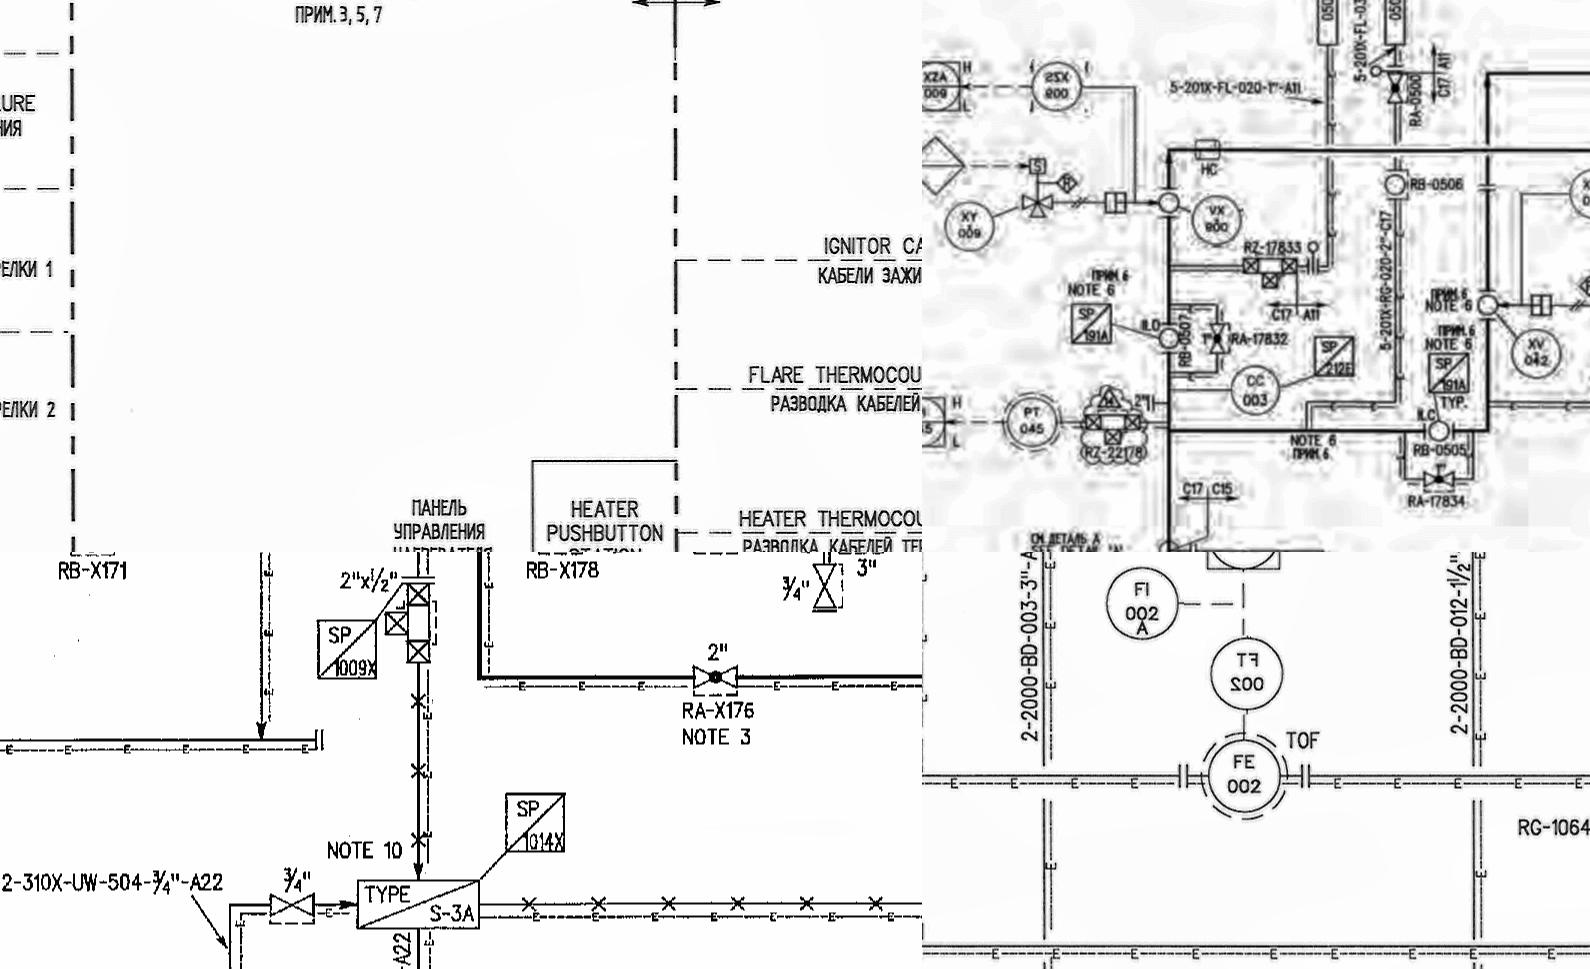2 WAY VALVE: (385, 584, 444, 674), (1078, 407, 1148, 450), (1237, 251, 1303, 292)
3 WAY GENERAL VALVE: (1019, 192, 1058, 222)
BLIND SPADE OPEN: (1302, 239, 1325, 278)
DCS ACCESSIBLE: (922, 53, 966, 117), (1198, 552, 1289, 579), (922, 389, 952, 453)
DUPLEX RECEPTACLE: (1191, 132, 1228, 166)
END FLANGED: (1168, 755, 1195, 797), (1297, 753, 1317, 794), (1475, 174, 1503, 197), (1183, 537, 1202, 552)
FIELD INSTRUMENT: (1195, 728, 1292, 824), (1099, 566, 1185, 644), (1206, 636, 1286, 716), (995, 383, 1068, 457), (1506, 323, 1567, 383), (939, 201, 999, 254), (1029, 58, 1083, 116), (1228, 362, 1282, 417), (1190, 192, 1242, 247), (1564, 162, 1590, 220), (1472, 291, 1500, 319), (1155, 326, 1185, 352), (1157, 189, 1182, 219), (1382, 168, 1407, 198), (1425, 418, 1455, 443), (1157, 540, 1185, 552)
GATE VALVE: (263, 888, 317, 925), (809, 560, 845, 610)
GLOBE VALVE: (686, 653, 745, 693), (1419, 465, 1459, 490), (1208, 317, 1231, 358), (1387, 65, 1407, 107)
HARDWIRED INTERLOCK FIELD: (1055, 172, 1080, 194), (1576, 270, 1590, 296)
HARDWIRED INTERLOCK PRIMARY.: (922, 135, 970, 194)
REVISION TRIANGLE: (1098, 383, 1124, 406)
SPECIAL PIPING ITEM: (350, 871, 489, 942), (495, 785, 578, 859), (309, 615, 385, 685), (1063, 295, 1120, 350), (1307, 329, 1363, 381), (1423, 349, 1475, 399)
SPEED FLOW METER: (1024, 150, 1052, 179)
